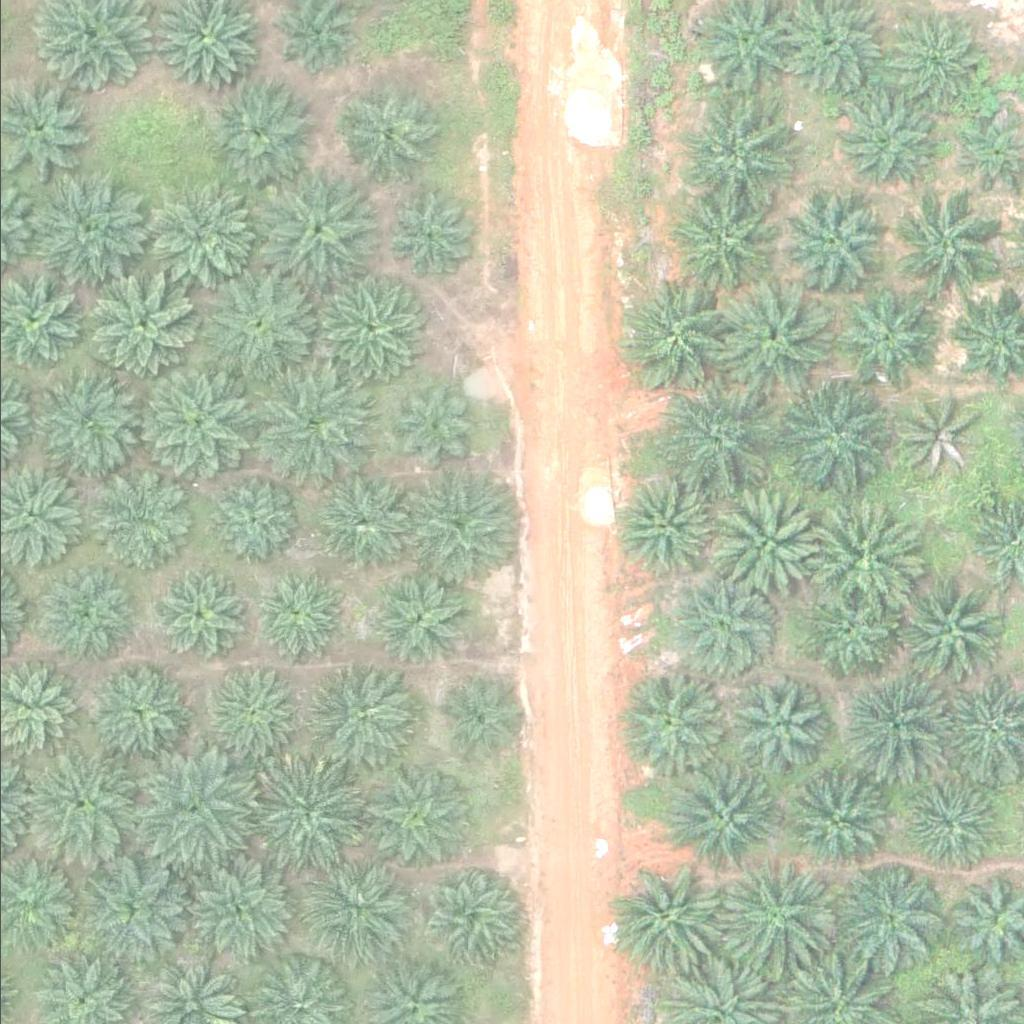Kelapa_Sawit: (135, 369, 249, 482), (716, 854, 830, 967), (615, 670, 729, 783), (663, 757, 777, 870), (251, 369, 364, 482), (81, 267, 194, 380), (310, 267, 423, 380), (140, 181, 253, 294), (130, 751, 243, 864), (23, 746, 136, 859), (303, 652, 416, 765), (837, 669, 950, 782), (616, 281, 729, 394), (31, 369, 145, 481), (203, 266, 317, 378), (357, 757, 471, 869), (408, 469, 522, 581), (832, 861, 946, 973), (894, 193, 1008, 305), (677, 91, 791, 203), (261, 179, 374, 291), (25, 176, 138, 288), (79, 856, 192, 968), (243, 756, 356, 868), (25, 552, 138, 664), (78, 459, 191, 571), (606, 866, 719, 978), (893, 574, 1006, 686), (810, 497, 923, 609), (712, 484, 825, 596), (657, 386, 770, 498), (778, 382, 891, 494), (716, 280, 829, 392), (659, 181, 772, 293), (379, 185, 480, 285), (206, 80, 307, 180), (190, 861, 291, 961), (85, 666, 186, 766), (148, 567, 249, 667), (309, 471, 410, 571), (719, 675, 820, 775), (675, 576, 776, 676), (782, 188, 883, 288), (831, 88, 932, 188), (330, 84, 430, 184), (304, 854, 404, 954), (421, 865, 521, 965), (251, 563, 351, 663), (375, 570, 475, 670), (895, 776, 995, 876), (779, 772, 879, 872), (613, 475, 713, 575), (841, 286, 941, 386), (884, 11, 984, 111), (437, 674, 525, 762), (209, 667, 297, 755), (804, 586, 892, 674), (389, 386, 477, 473), (204, 481, 292, 568), (891, 396, 979, 483)
